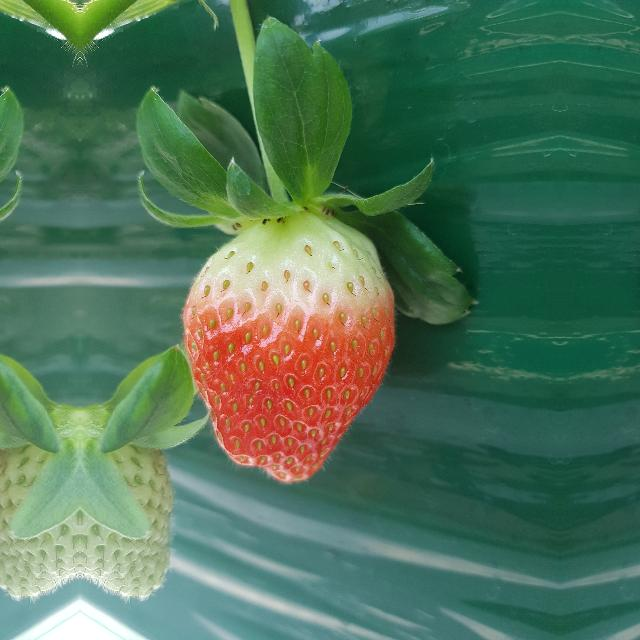Health_25: (80, 400, 174, 602), (0, 399, 79, 602)
Health_75: (178, 216, 398, 484)
